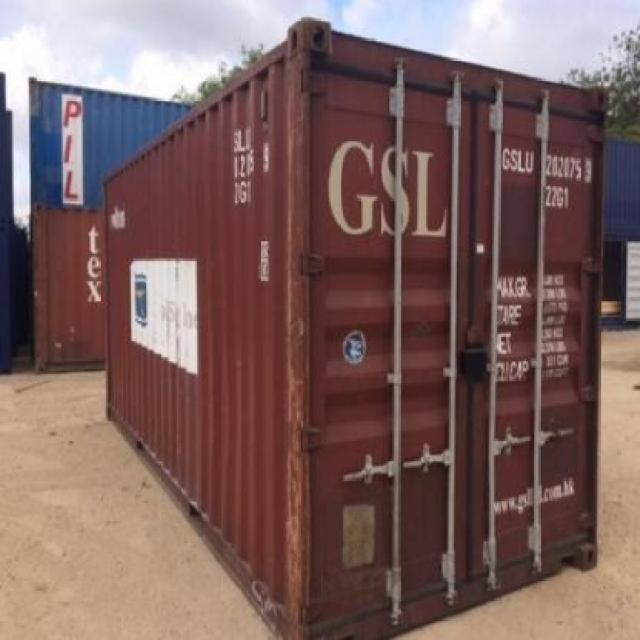ISO: (542, 183, 572, 208)
container_number: (506, 149, 593, 179)
